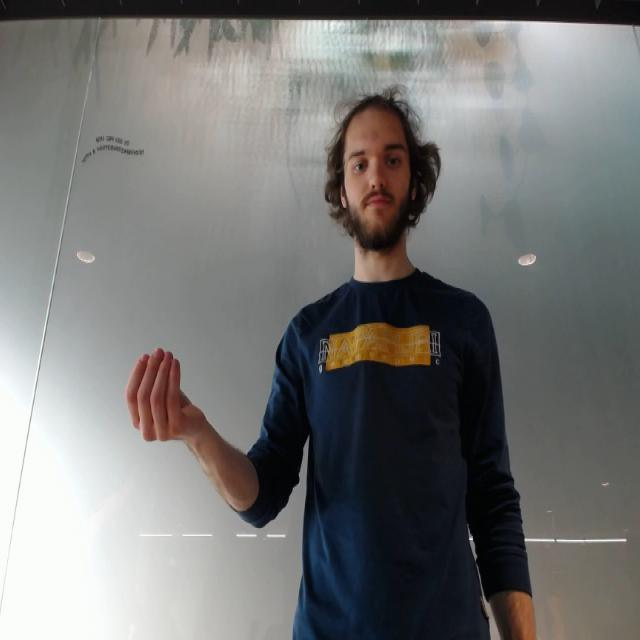forward: (123, 340, 203, 449)
